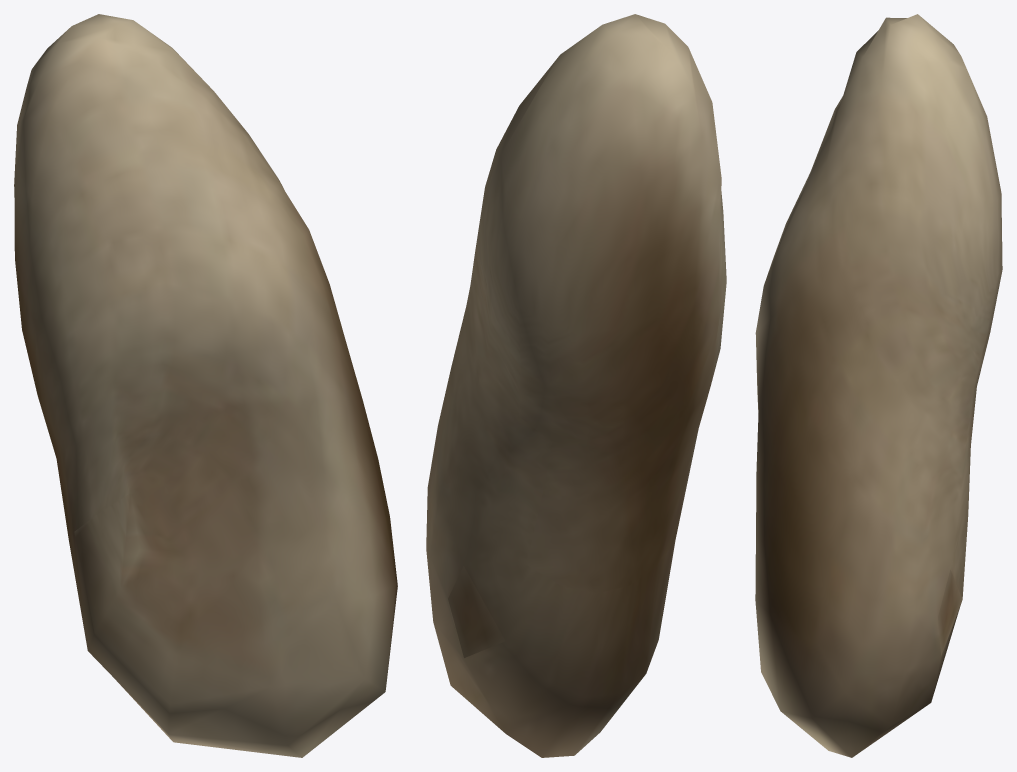
Rendered from Upper_Incisor1.glb.
3 views of the same model, side by side, from view 1: azimuth 30°, elevation 25°; view 2: azimuth 150°, elevation 25°; view 3: azimuth 270°, elevation 25° (orthographic). The views are drawn at different scales.
Parts seen in each view (by area): view 1: Upper_Incisor4; view 2: Upper_Incisor4; view 3: Upper_Incisor4.
Boxes of the visible parts, x1,y1,x2,y2 form: Upper_Incisor4: [14, 14, 397, 757]; Upper_Incisor4: [426, 14, 726, 757]; Upper_Incisor4: [755, 14, 1002, 757].
Size of the model in its own units: 0.00991 by 0.0224 by 0.00759.
Materials: 1 (1 with a texture image).
